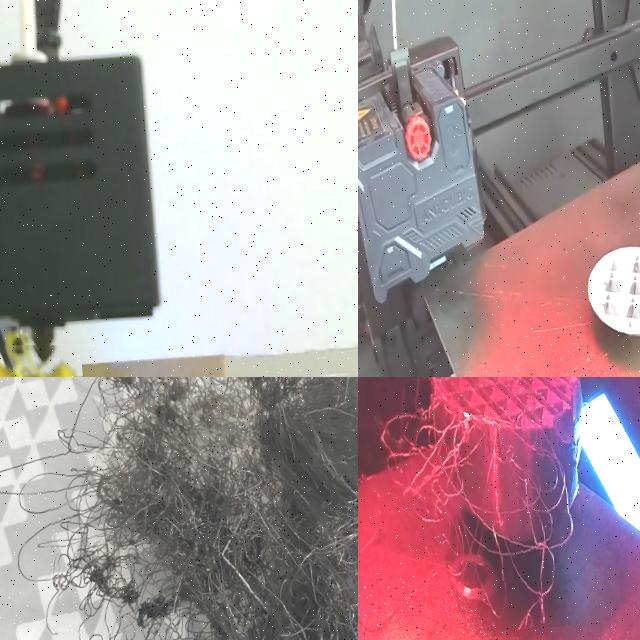spaghetti: (25, 377, 358, 640), (382, 377, 575, 631), (0, 332, 88, 377)
